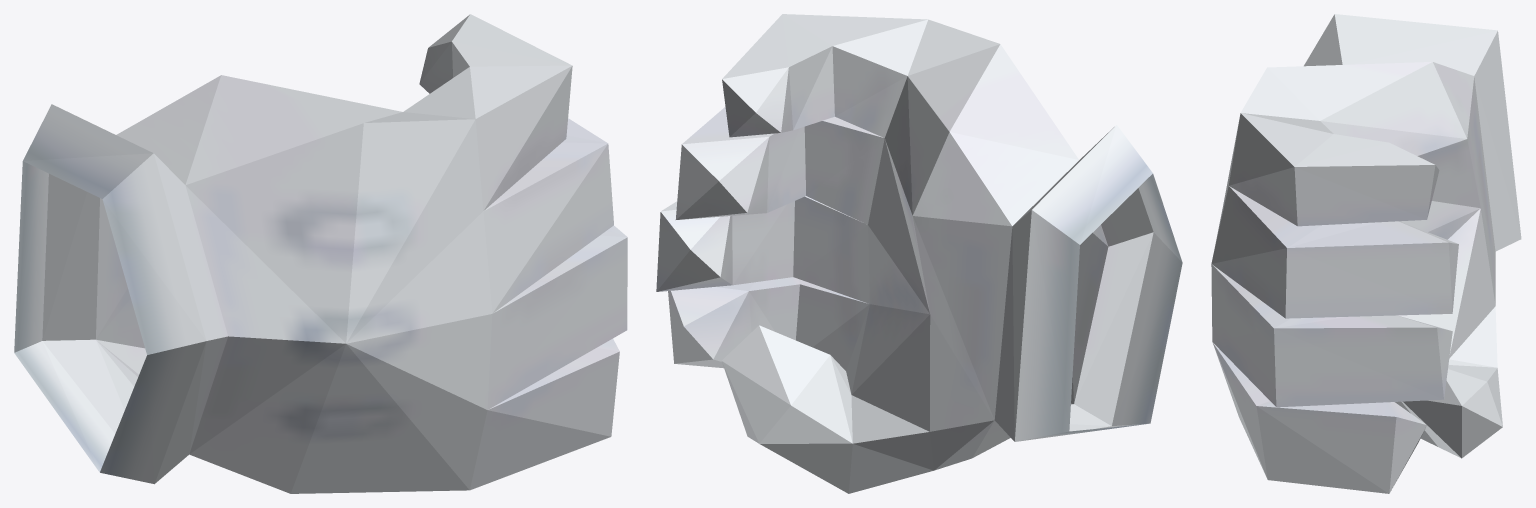
File: ma_hnd2l.dae
3 renders of one model, left to right at view 1: azimuth 30°, elevation 25°; view 2: azimuth 150°, elevation 25°; view 3: azimuth 270°, elevation 25°, orthographic. The views are drawn at different scales.
Parts seen in each view (by area): view 1: m0; view 2: m0; view 3: m0.
Part boxes in pixels (x1=…): m0: x1=14, y1=14, x2=627, y2=493; m0: x1=656, y1=14, x2=1182, y2=493; m0: x1=1211, y1=14, x2=1521, y2=493.
Size of the model in its own units: 31.81 by 25.77 by 20.22.
